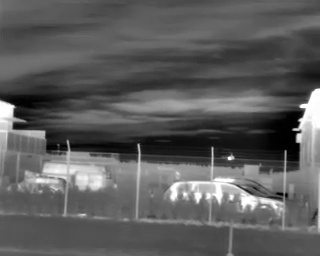HELICOPTER: (225, 152, 237, 164)
